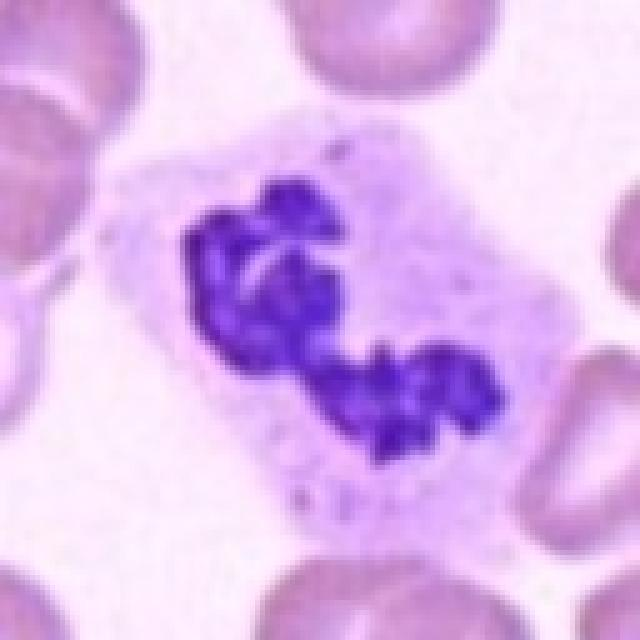neutro: (137, 134, 559, 514)
